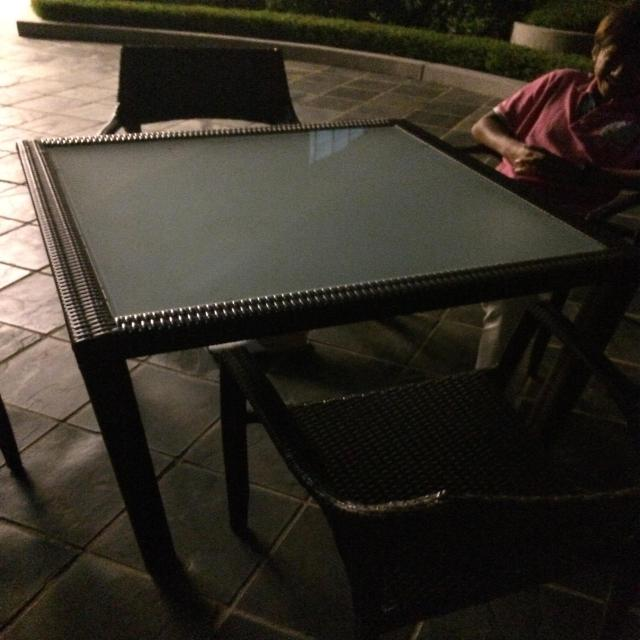People: (479, 0, 640, 243)
Table: (16, 106, 612, 515)
chair: (233, 359, 640, 640), (98, 16, 322, 127)
